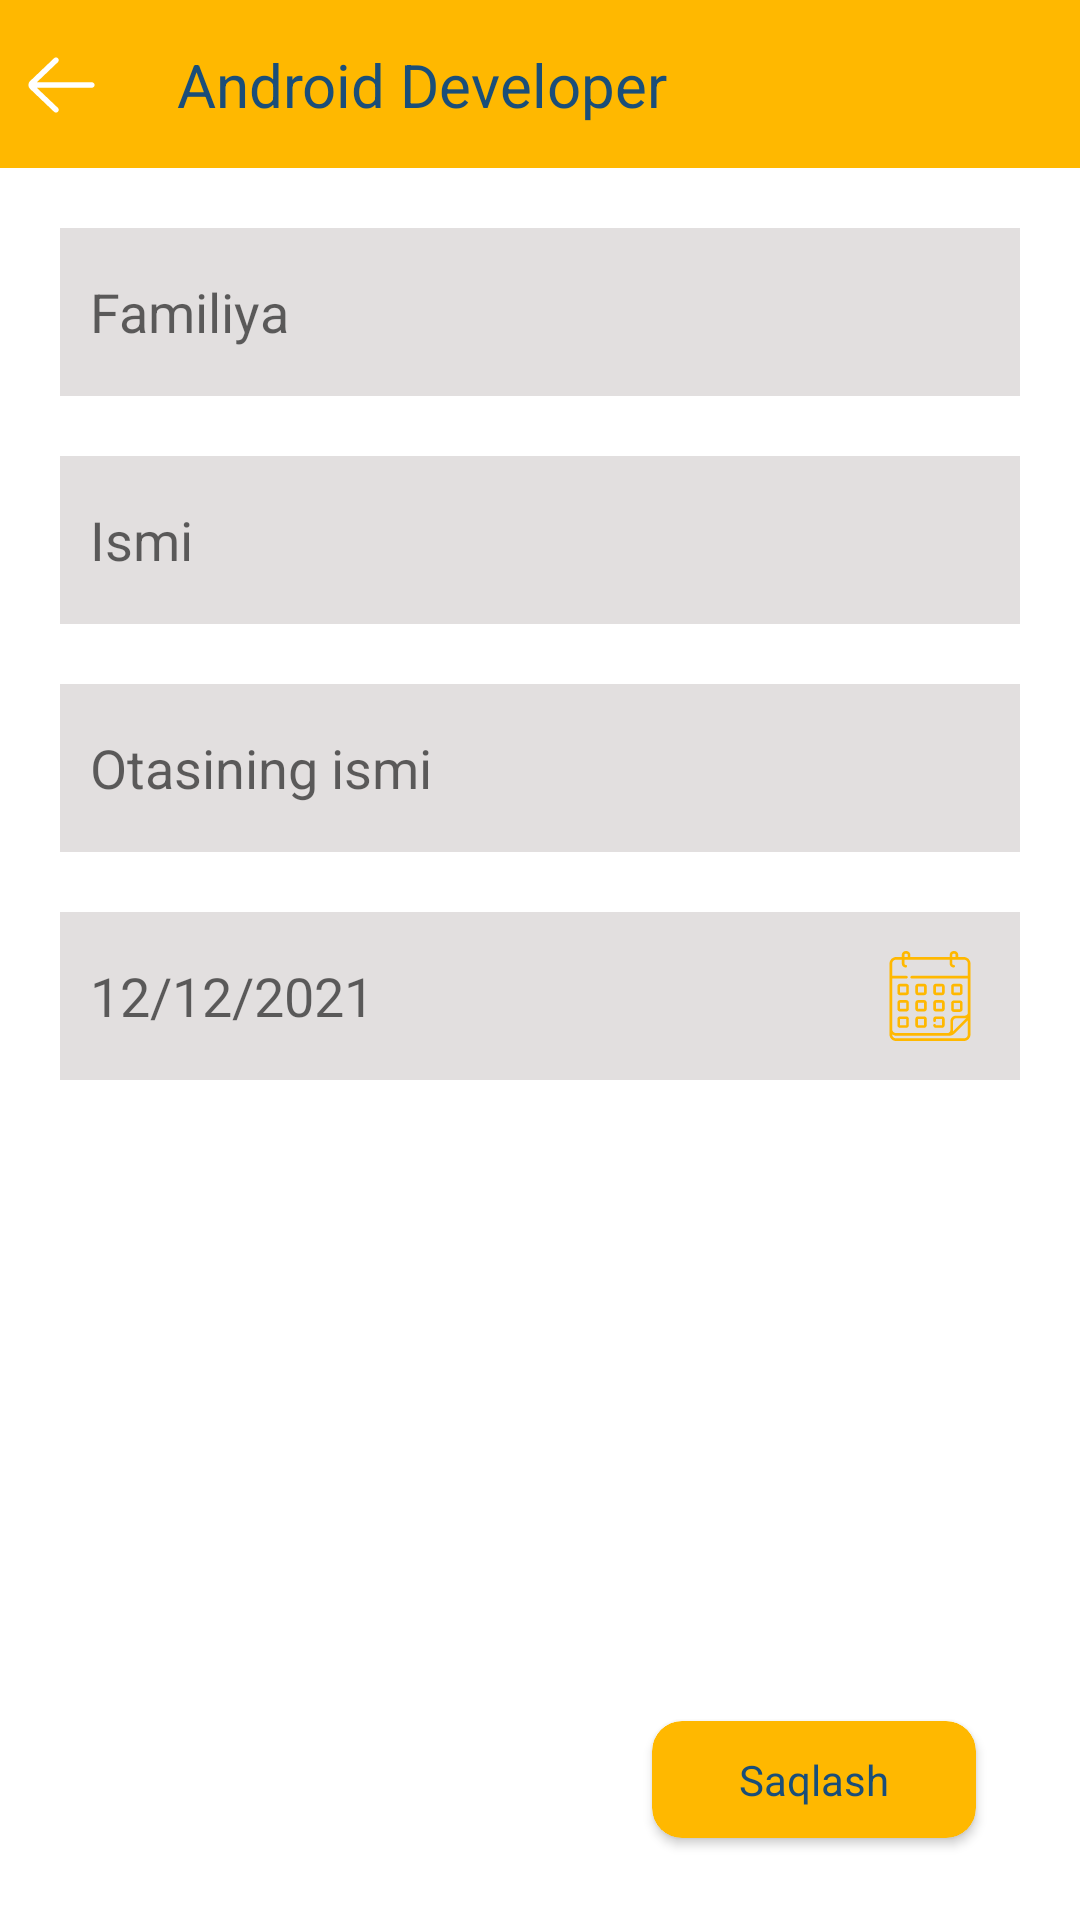

Icons on this 1080w x 1920h Android screen, each with its box as (x1, y1, x2, y2):
calendar: (889, 951, 971, 1041)
